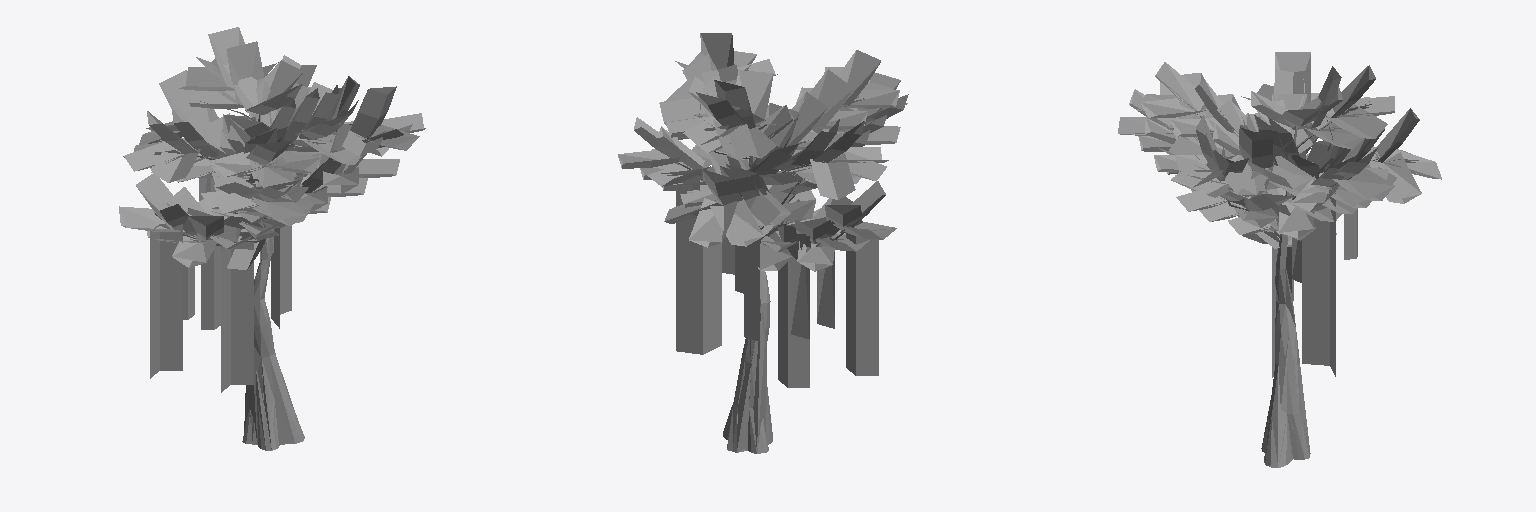
File: CopalTree_blender.obj
3 views of the same model, side by side, from view 1: azimuth 30°, elevation 25°; view 2: azimuth 150°, elevation 25°; view 3: azimuth 270°, elevation 25° (orthographic).
Parts seen in each view (by area): view 1: Untitled.002_CopalTreeOne60, Untitled_CopalTreeOne200, Untitled.001_CopalTreeOne100; view 2: Untitled.002_CopalTreeOne60, Untitled_CopalTreeOne200, Untitled.001_CopalTreeOne100; view 3: Untitled.002_CopalTreeOne60, Untitled_CopalTreeOne200, Untitled.001_CopalTreeOne100.
Boxes of the visible parts, <box> form: Untitled.002_CopalTreeOne60: <box>119,27,424,448</box>; Untitled_CopalTreeOne200: <box>124,42,425,450</box>; Untitled.001_CopalTreeOne100: <box>119,45,419,450</box>; Untitled.002_CopalTreeOne60: <box>618,33,908,452</box>; Untitled_CopalTreeOne200: <box>622,35,906,453</box>; Untitled.001_CopalTreeOne100: <box>618,63,899,453</box>; Untitled.002_CopalTreeOne60: <box>1118,52,1441,466</box>; Untitled_CopalTreeOne200: <box>1120,76,1441,467</box>; Untitled.001_CopalTreeOne100: <box>1129,65,1438,453</box>.
Bounding box in the file's own units: 10.42 × 14.55 × 11.29.